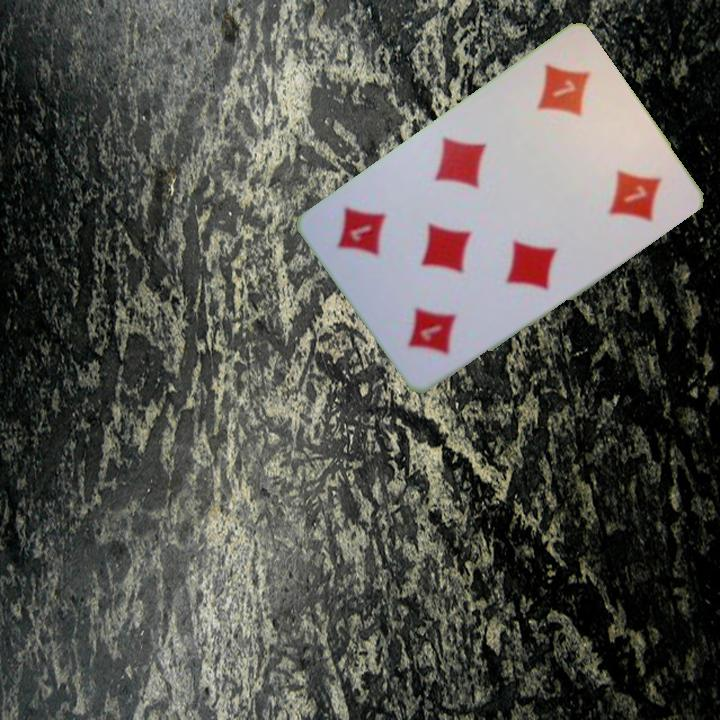d_7.png: (369, 253, 495, 382), (507, 40, 633, 169)
